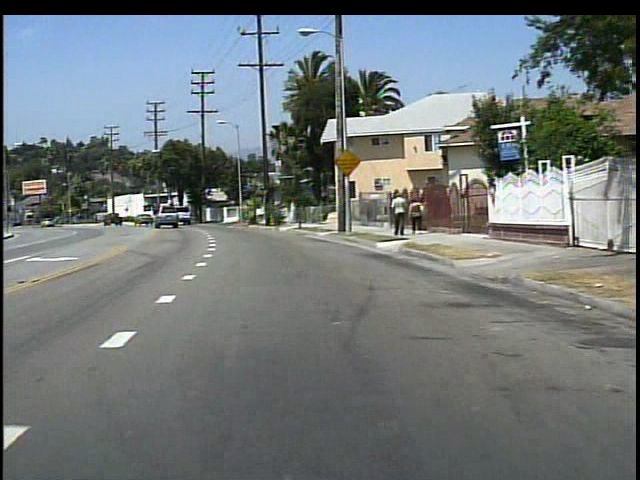person: (389, 189, 408, 238), (405, 196, 425, 235)
